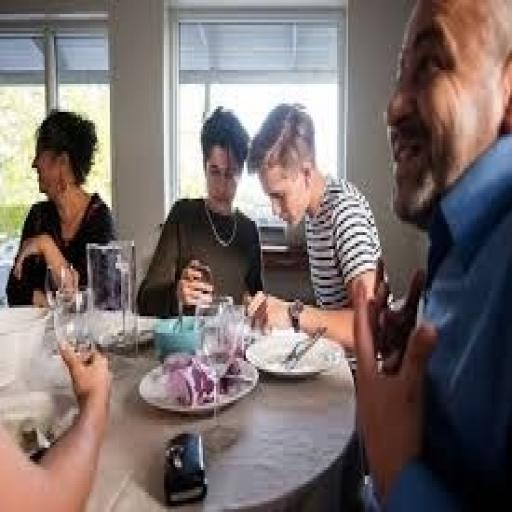eating: (1, 0, 510, 506)
